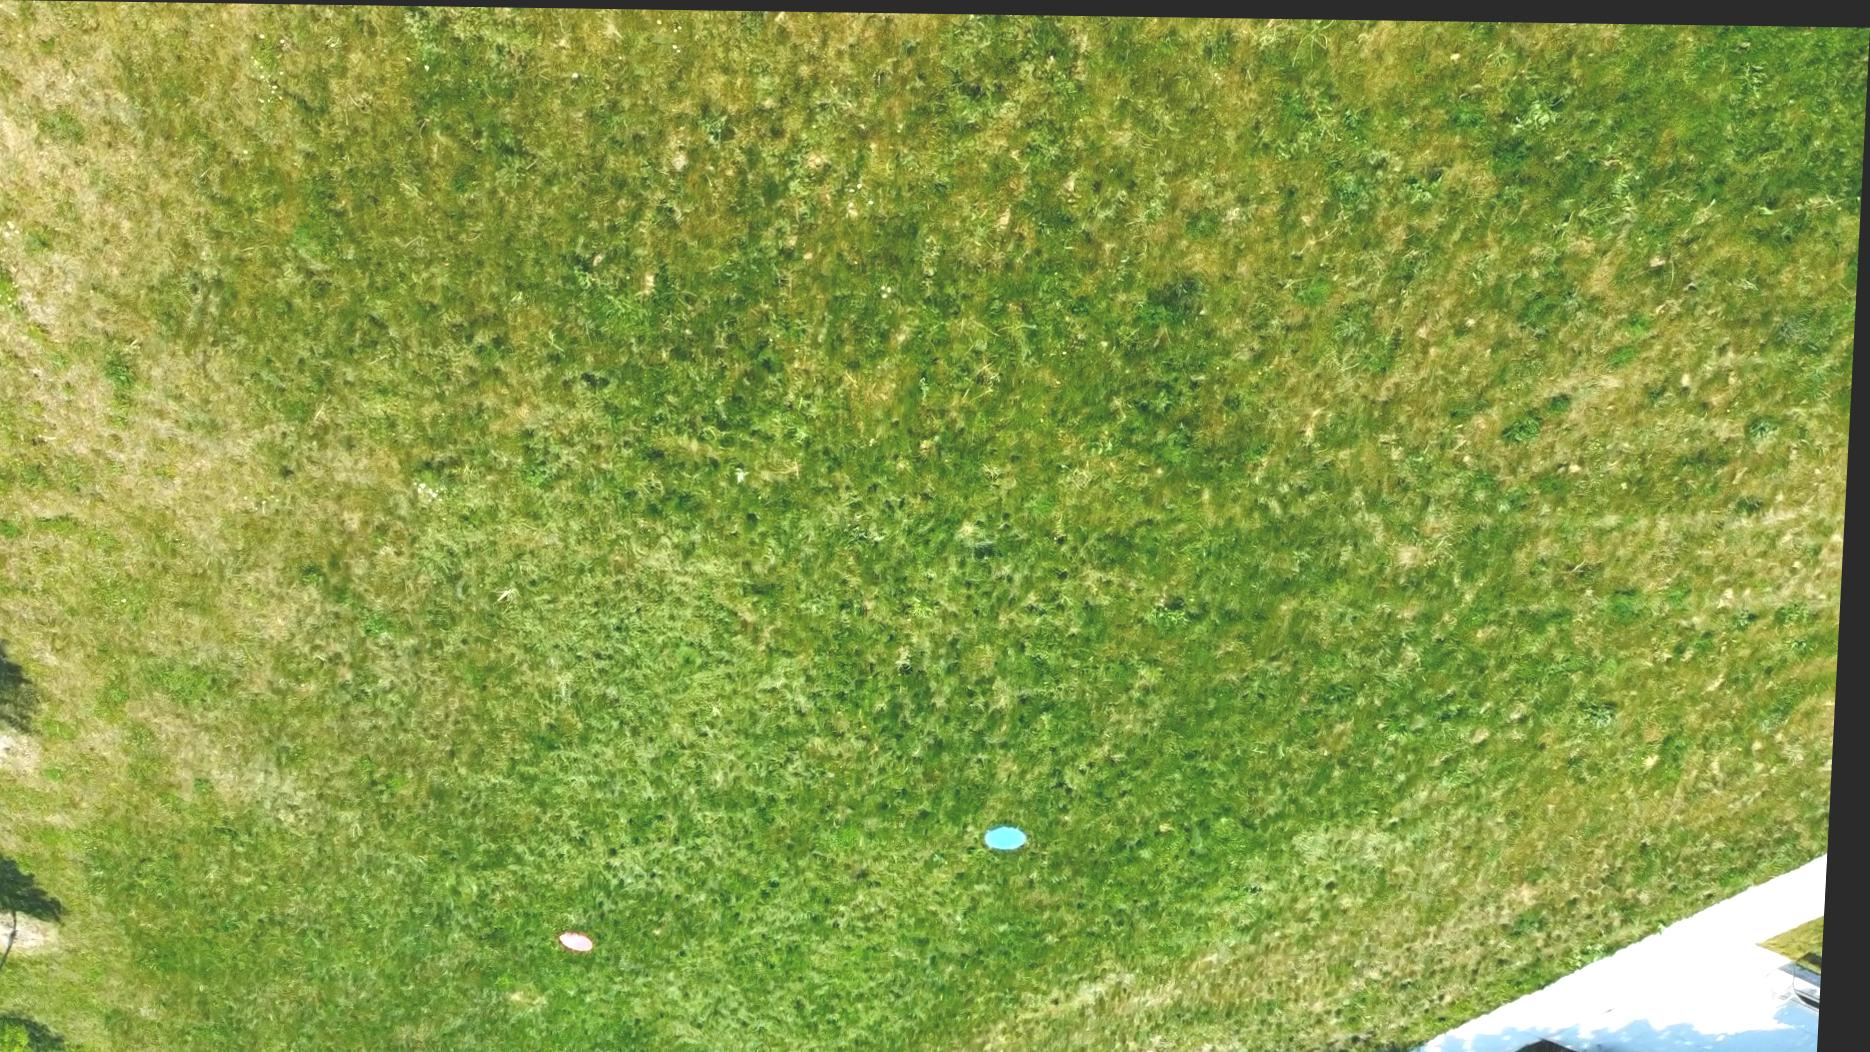Blue: (990, 821, 1040, 850)
Red: (565, 926, 605, 951)
